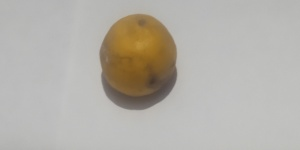BAD: (100, 13, 180, 98)
